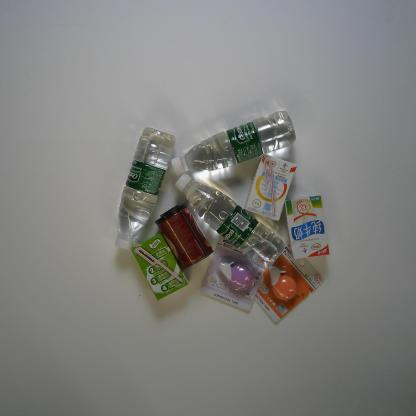Canned Food: (153, 203, 215, 271)
Drink: (174, 173, 286, 270), (170, 110, 297, 176), (114, 127, 176, 251)
Milk: (130, 231, 192, 302), (243, 154, 297, 224), (284, 195, 330, 260)
Stationery: (254, 239, 324, 324), (199, 233, 266, 312)
